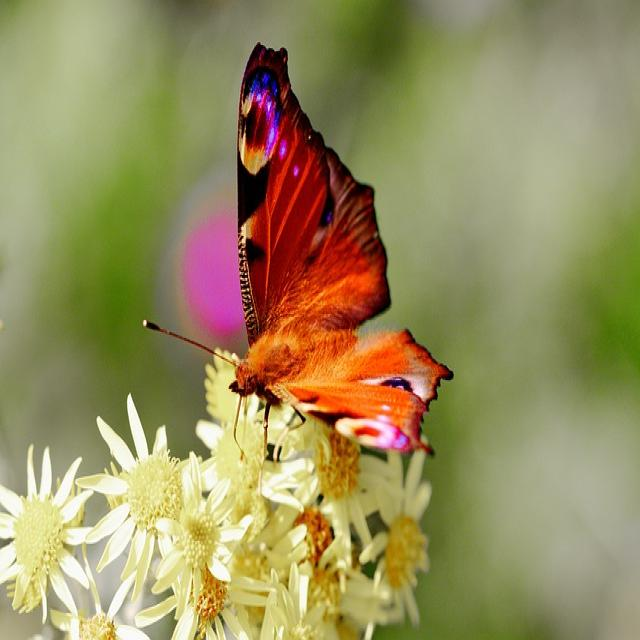butterfly: (227, 47, 451, 457)
